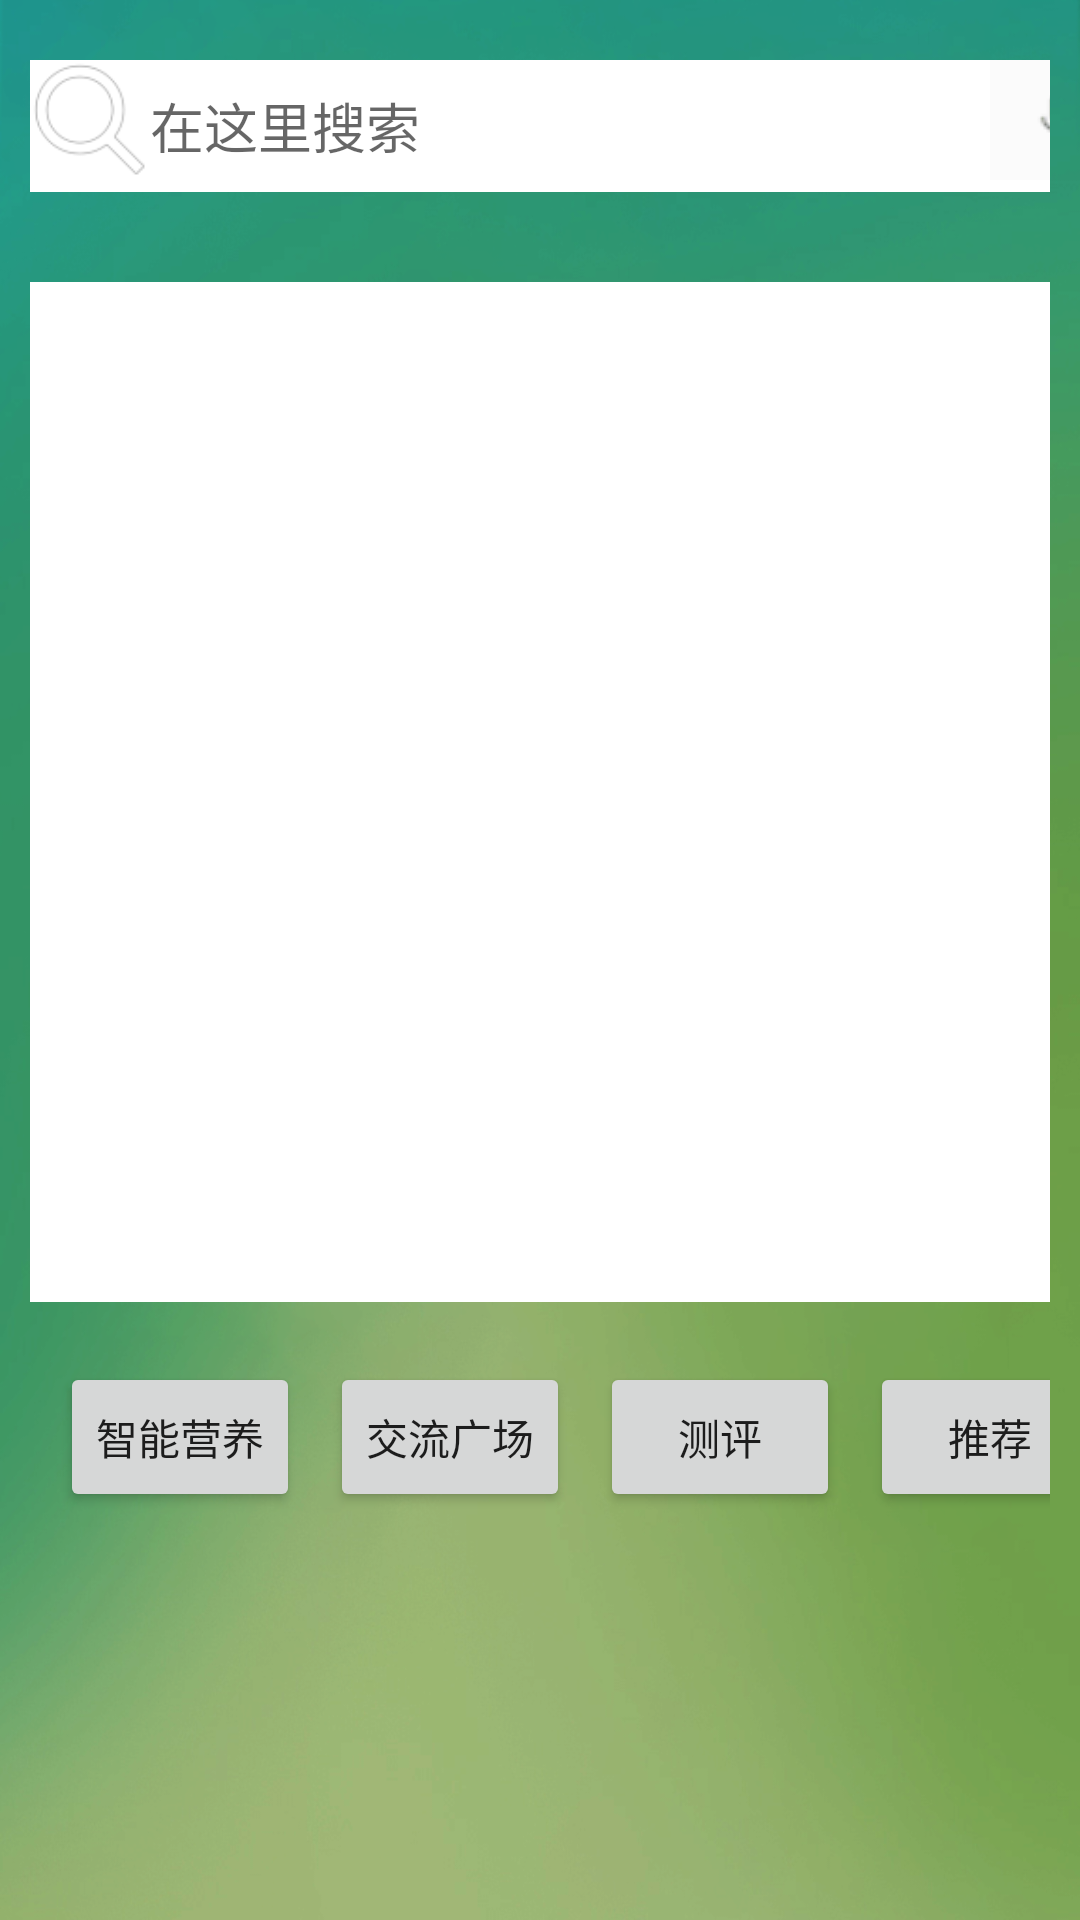

Screen size 1080px x 1920px. Icon name, then its box in pixels as (x1=x1, y1=y1, x2=x2, y2=y2):
search: (x1=35, y1=65, x2=145, y2=175)
